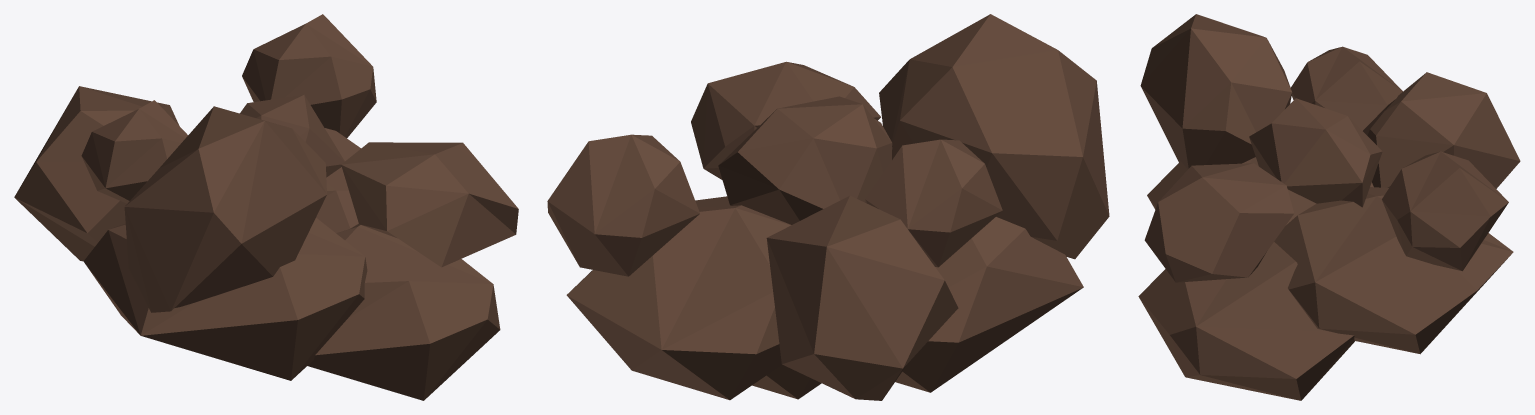
Rendered from SM_Prop_Crate_Rocks_01.glb.
3 renders of one model, left to right at view 1: azimuth 30°, elevation 25°; view 2: azimuth 150°, elevation 25°; view 3: azimuth 270°, elevation 25°, orthographic. The views are drawn at different scales.
Visible parts, largest first — view 1: SM_Prop_Crate_Rocks_01; view 2: SM_Prop_Crate_Rocks_01; view 3: SM_Prop_Crate_Rocks_01.
Boxes of the visible parts, x1=… form: SM_Prop_Crate_Rocks_01: x1=14, y1=14, x2=518, y2=400; SM_Prop_Crate_Rocks_01: x1=547, y1=14, x2=1109, y2=400; SM_Prop_Crate_Rocks_01: x1=1138, y1=14, x2=1520, y2=400.
Bounding box in the file's own units: 0.00907 × 0.00753 × 0.00911.
1 material, 1 textured.
